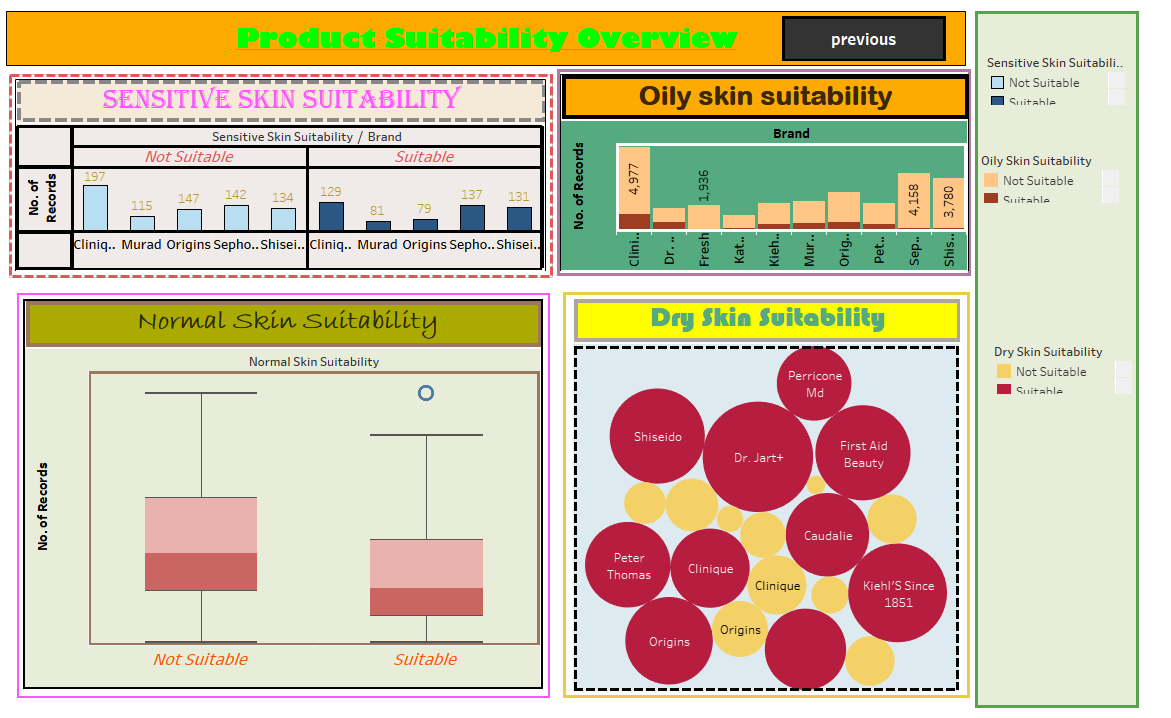

The page's visual inventory and layout, read from the dashboard file:
{"tool":"tableau","page":{"name":"Dashboard 2","canvas":[1200,800],"ordinal":1},"visuals":[{"type":"text","box":[2,3,960,63]},{"type":"dashboard-object","box":[778,9,164,52]},{"type":"legend","title":"Sensitive","param":"[federated.1jyz4ck1cu2dcf1atgttf1akgbpa].[none:Sensitive Skin Suitability:nk]","box":[983,53,140,58]},{"type":"worksheet","title":"Oily","mark":"Bar","rows":["No. of Records"],"cols":["Brand"],"box":[556,75,409,226]},{"type":"worksheet","title":"Sensitive","mark":"Bar","rows":["No. of Records"],"cols":["Sensitive Skin Suitability","Brand"],"box":[11,81,531,220]},{"type":"legend","title":"Oily","param":"[federated.1jyz4ck1cu2dcf1atgttf1akgbpa].[none:Oily Skin Suitability:nk]","box":[977,165,140,58]},{"type":"worksheet","title":"Dry","mark":"Circle","box":[569,332,387,449]},{"type":"worksheet","title":"Normal","mark":"Automatic","rows":["No. of Records"],"cols":["Normal Skin Suitability"],"box":[19,333,520,446]},{"type":"legend","title":"Dry","param":"[federated.1jyz4ck1cu2dcf1atgttf1akgbpa].[none:Dry Skin Suitability:nk]","box":[990,383,140,58]}]}

Visuals, with their boxes on the page's 1200x800 design canvas (x1, y1, x2, y2). These are canvas units, not pixel positions in the 1171x718 screenshot, which may show the page scaled, cropped or inside an application window:
text: (x1=2, y1=3, x2=962, y2=66)
dashboard-object: (x1=778, y1=9, x2=942, y2=61)
"Sensitive" legend: (x1=983, y1=53, x2=1123, y2=111)
"Oily" worksheet (Bar marks): (x1=556, y1=75, x2=965, y2=301)
"Sensitive" worksheet (Bar marks): (x1=11, y1=81, x2=542, y2=301)
"Oily" legend: (x1=977, y1=165, x2=1117, y2=223)
"Dry" worksheet (Circle marks): (x1=569, y1=332, x2=956, y2=781)
"Normal" worksheet: (x1=19, y1=333, x2=539, y2=779)
"Dry" legend: (x1=990, y1=383, x2=1130, y2=441)
